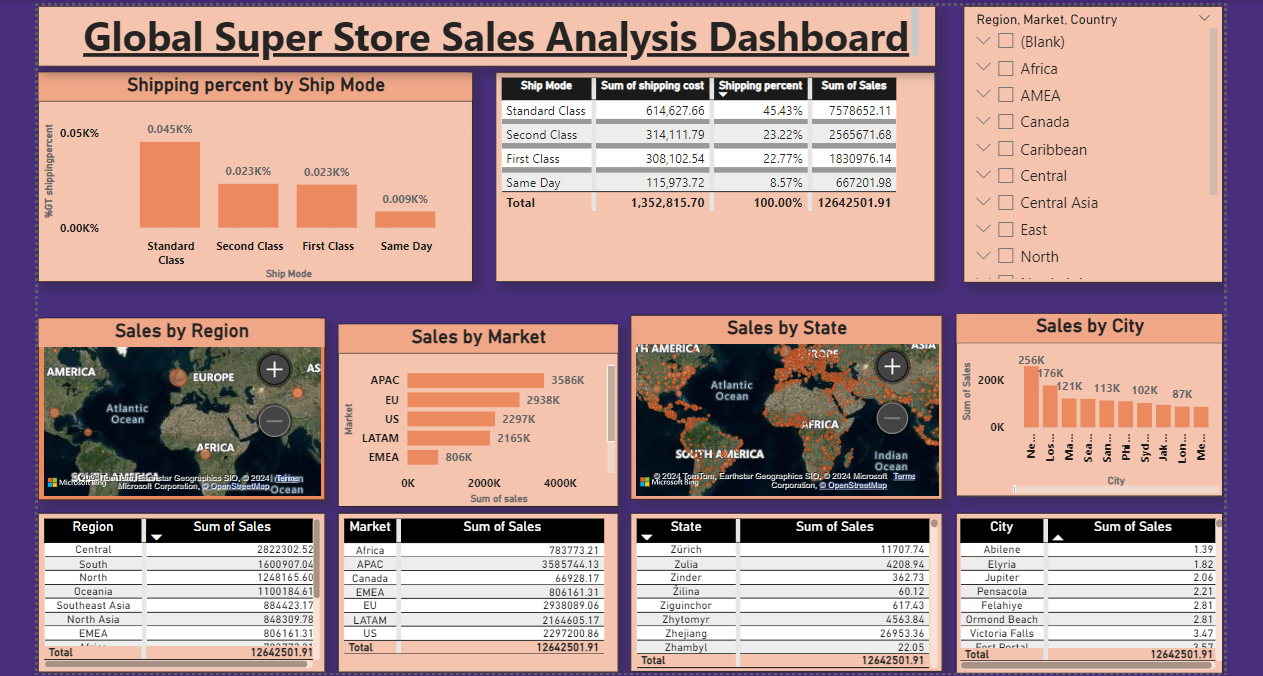

The dashboard page shown, as its layout file describes it:
{"tool":"powerbi","page":{"name":"Globalsuperstore","canvas":[1280,720],"ordinal":0},"visuals":[{"type":"actionButton","box":[0,0,100,40],"z":0},{"type":"slicer","fields":{"Values":["People.Region","Orders.Market","Orders.Country"]},"box":[999.7,0,279.7,298.6],"z":0,"group":"g2"},{"type":"columnChart","title":"Shipping percent by Ship Mode","fields":{"Category":["Orders.Ship Mode"],"Y":["Orders.shippingpercent"]},"box":[0.4,71.2,469.6,226.7],"z":1000,"group":"g2"},{"type":"tableEx","fields":{"Values":["Orders.Region","Sum(Orders.Sales)"]},"box":[0,548,309.9,172],"z":1000},{"type":"tableEx","title":"cghfhd","fields":{"Values":["Orders.Ship Mode","Sum(Orders.sum of shippingcost)","Orders.shippingpercent","Sum(Orders.Sales)"]},"box":[493.9,71.2,474.4,226.7],"z":2000,"group":"g2"},{"type":"group","id":"g1","title":"Group 1","box":[0,331.2,1279.2,208.5],"z":2000},{"type":"group","id":"g2","title":"Group 2","box":[0.4,0,1279,298.6],"z":3000},{"type":"textbox","box":[0,0,969,65],"z":4000},{"type":"map","title":"Sales by Region","fields":{"Category":["People.Region"],"Size":["Sum(Orders.Sales)"]},"box":[0,335.9,309.9,196.5],"z":4000,"group":"g1"},{"type":"map","title":" Sales by State","fields":{"Size":["Sum(Orders.Sales)"],"Category":["Orders.State"]},"box":[639.6,333.1,336.8,199.2],"z":5000,"group":"g1"},{"type":"tableEx","fields":{"Values":["Orders.Market","Sum(Orders.Sales)"]},"box":[323.2,548,302.4,172],"z":5000},{"type":"clusteredBarChart","title":"Sales by Market","fields":{"Y":["Sum(Orders.Sales)"],"Category":["Orders.Market"]},"box":[323.8,342.1,302.8,197.5],"z":6000,"group":"g1"},{"type":"tableEx","fields":{"Values":["Orders.City","Sum(Orders.Sales)"]},"box":[991,547.3,288.2,173.3],"z":6000},{"type":"columnChart","title":"Sales by City","fields":{"Category":["Orders.City"],"Y":["Sum(Orders.Sales)"]},"box":[991,331.2,288.2,197.5],"z":7000,"group":"g1"},{"type":"tableEx","fields":{"Values":["Orders.State","Sum(Orders.Sales)"]},"box":[639.6,547.3,336.8,171.6],"z":7000}]}

Visuals, with their boxes in screenshot pixels (x1, y1, x2, y2):
actionButton: 33 3 126 40
slicer - People.Region x Orders.Market: 961 3 1220 280
"Shipping percent by Ship Mode" columnChart: 33 69 469 280
tableEx - Orders.Region x Sum(Orders.Sales): 33 512 320 671
"cghfhd" tableEx: 491 69 932 280
"Group 1" group: 33 311 1220 504
"Group 2" group: 33 3 1220 280
textbox: 33 3 932 64
"Sales by Region" map: 33 315 320 497
" Sales by State" map: 626 312 939 497
tableEx - Orders.Market x Sum(Orders.Sales): 333 512 613 671
"Sales by Market" clusteredBarChart: 333 321 614 504
tableEx - Orders.City x Sum(Orders.Sales): 953 511 1220 672
"Sales by City" columnChart: 953 311 1220 494
tableEx - Orders.State x Sum(Orders.Sales): 626 511 939 670
